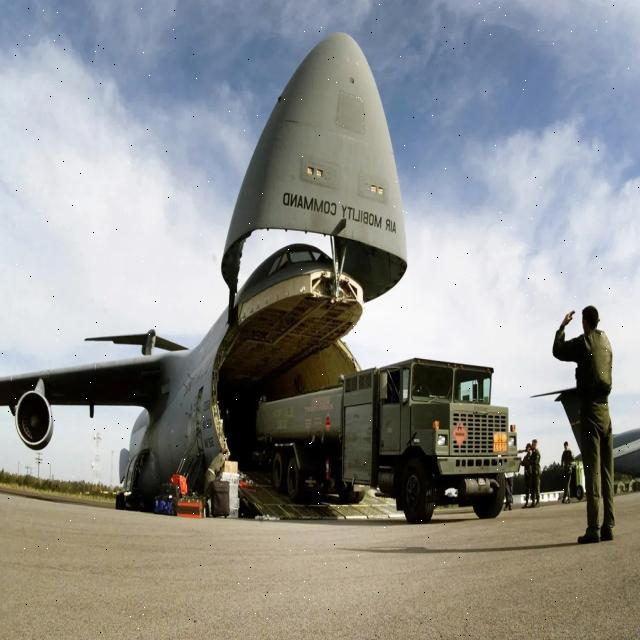C5: (0, 22, 425, 600)
